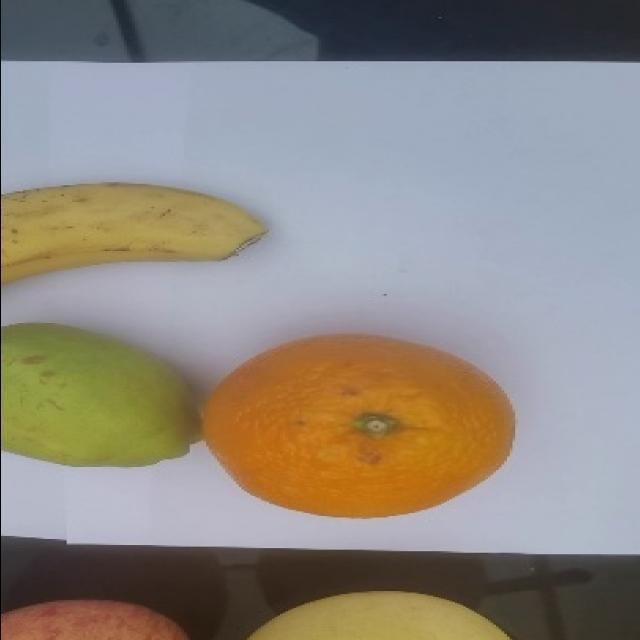Apple: (0, 598, 189, 639)
Banana: (0, 180, 268, 285)
Orange: (201, 332, 516, 519)
